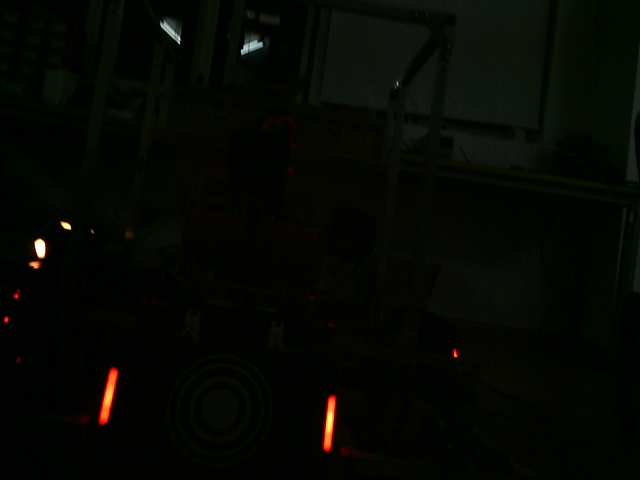lamp: (99, 364, 118, 426), (320, 396, 339, 453)
